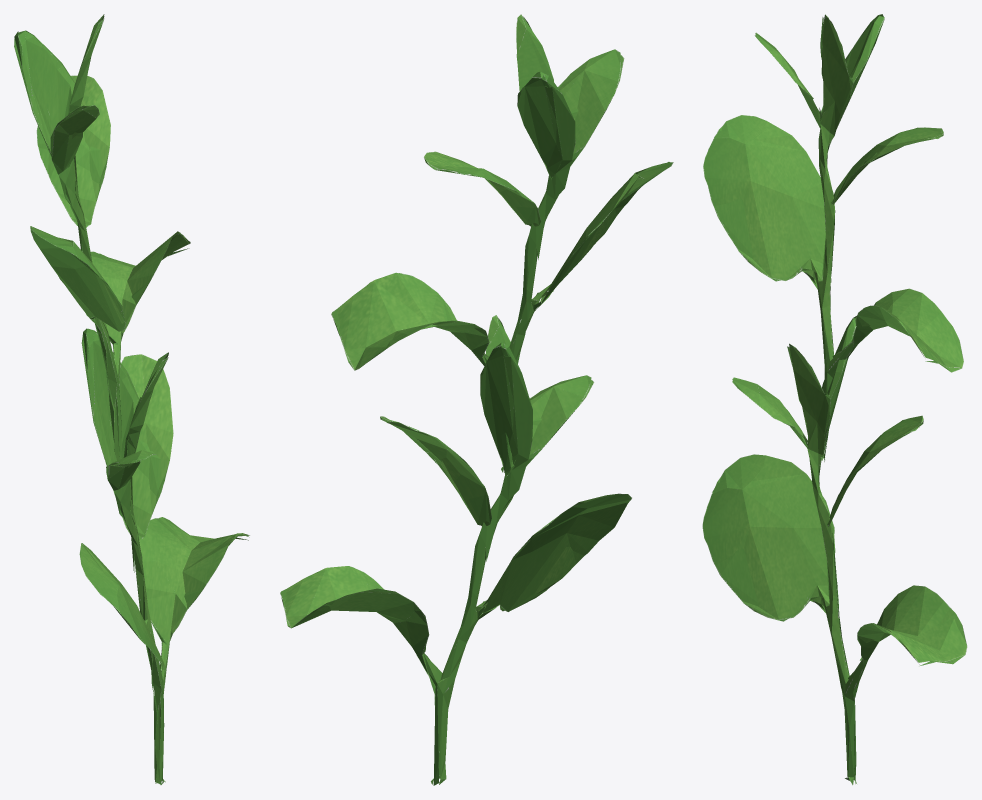
Rendered from Plant_6_Fixed.glb.
3 views of the same model, side by side, from view 1: azimuth 30°, elevation 25°; view 2: azimuth 150°, elevation 25°; view 3: azimuth 270°, elevation 25° (orthographic). The views are drawn at different scales.
Visible parts, largest first — view 1: geometry_0.011; view 2: geometry_0.011; view 3: geometry_0.011.
Boxes of the visible parts, x1,y1,x2,y2 form: geometry_0.011: (14, 14, 249, 784); geometry_0.011: (280, 14, 673, 785); geometry_0.011: (702, 14, 967, 785).
Bounding box in the file's own units: 0.1665 × 0.4147 × 0.1349.
Materials: 2 (2 with a texture image).
